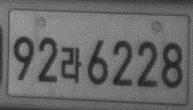2: (134, 39, 159, 88), (112, 40, 134, 87), (37, 37, 59, 83)
6: (86, 38, 108, 85)
8: (161, 42, 184, 89)
9: (12, 35, 34, 82)
라: (61, 46, 82, 83)
